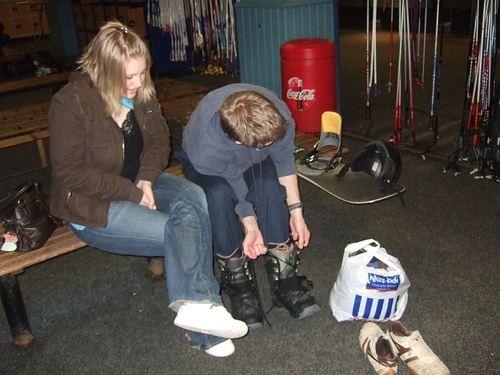head: (212, 87, 294, 156), (88, 24, 147, 99)
person: (40, 15, 234, 351), (174, 80, 317, 332)
